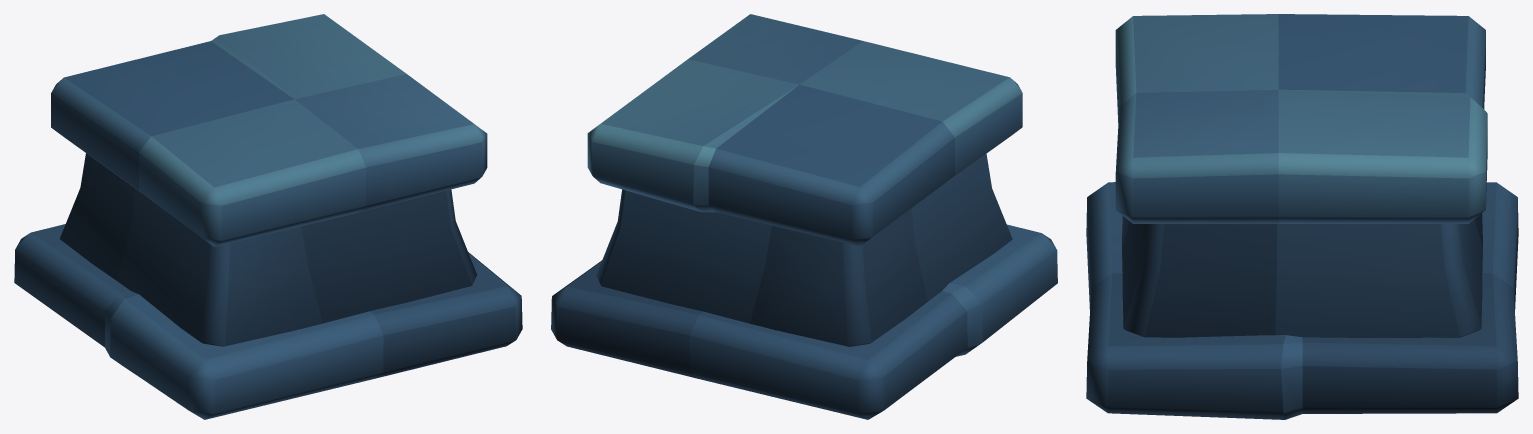
File: pillar_bottom.fbx
3 views of the same model, side by side, from view 1: azimuth 30°, elevation 25°; view 2: azimuth 150°, elevation 25°; view 3: azimuth 270°, elevation 25° (orthographic). The views are drawn at different scales.
Visible parts, largest first — view 1: pillar_bottom; view 2: pillar_bottom; view 3: pillar_bottom.
Boxes of the visible parts, x1,y1,x2,y2 form: pillar_bottom: [14, 14, 522, 419]; pillar_bottom: [551, 14, 1057, 419]; pillar_bottom: [1086, 14, 1518, 419].
Bounding box in the file's own units: 170 × 109 × 168.
